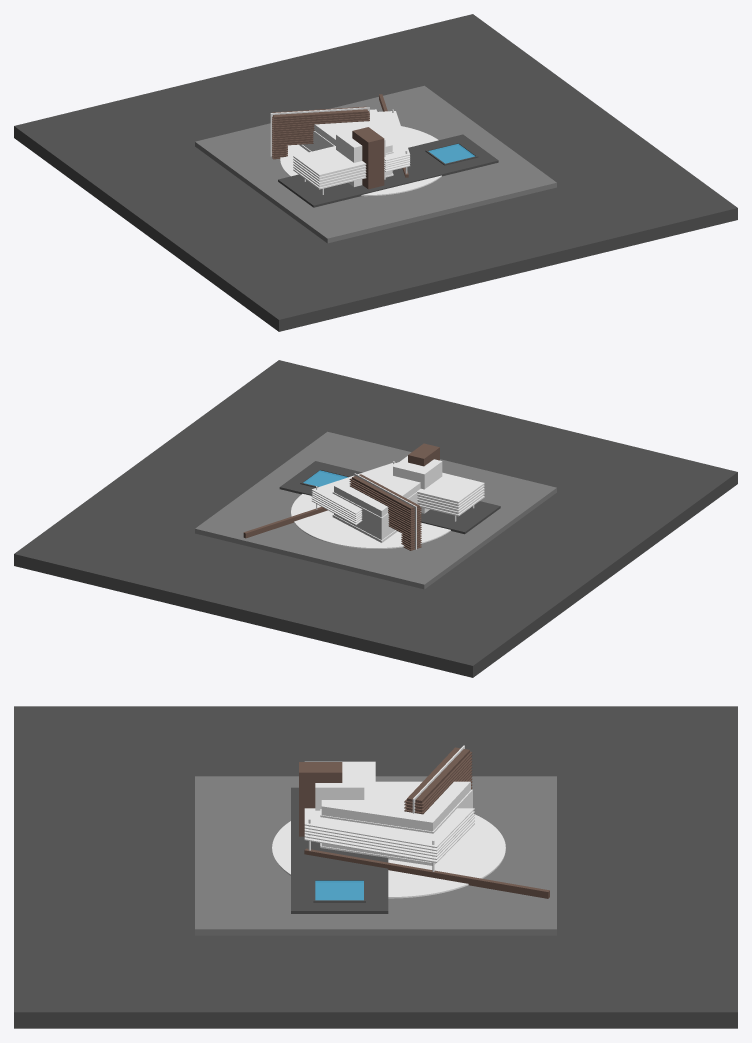
3 renders of one model, top to bottom at view 1: azimuth 30°, elevation 25°; view 2: azimuth 150°, elevation 25°; view 3: azimuth 270°, elevation 25°, orthographic. The views are drawn at different scales.
Parts seen in each view (by area): view 1: ground, Cube, Cube.006, Cube.009, Cube.004, Cube.002, Cylinder.002, Cube.013, Cube.005, Cube.003, Cube.010, Cube.011; view 2: ground, Cube, Cylinder.002, Cube.006, Cube.009, Cube.005, Cube.004, Cube.003, Cube.002, Cube.010, Cube.012, Cube.007 (+1 smaller); view 3: ground, Cube, Cube.006, Cylinder.002, Cube.003, Cube.005, Cube.012, Cube.013, Cube.010, Cube.011, Cube.004, Cube.002 (+1 smaller).
Boxes of the visible parts, x1,y1,x2,y2 form: ground: (14,14,737,331); Cube: (195,85,556,243); Cube.006: (278,134,498,207); Cube.009: (293,146,366,189); Cube.004: (272,111,369,159); Cube.002: (272,106,368,157); Cylinder.002: (280,126,441,196); Cube.013: (352,127,384,189); Cube.005: (302,109,392,175); Cube.003: (378,111,410,171); Cube.010: (336,127,385,186); Cube.011: (428,143,474,163); ground: (14,360,737,677); Cube: (195,431,556,589); Cylinder.002: (291,494,450,548); Cube.006: (279,461,500,534); Cube.009: (417,472,484,516); Cube.005: (334,462,420,539); Cube.004: (349,478,421,550); Cube.003: (311,462,395,525); Cube.002: (352,474,419,549); Cube.010: (393,456,442,513); Cube.012: (243,506,327,538); Cube.007: (332,492,417,531); ground: (14,706,737,1028); Cube: (195,776,556,935); Cube.006: (291,787,388,913); Cylinder.002: (272,813,505,898); Cube.003: (304,808,474,862); Cube.005: (321,781,470,862); Cube.012: (304,848,549,898); Cube.013: (299,762,342,836); Cube.010: (315,766,364,810); Cube.011: (315,880,363,900); Cube.004: (404,751,472,814); Cube.002: (407,747,469,812).
Bounding box in the file's own units: 20 × 2.74 × 20.
